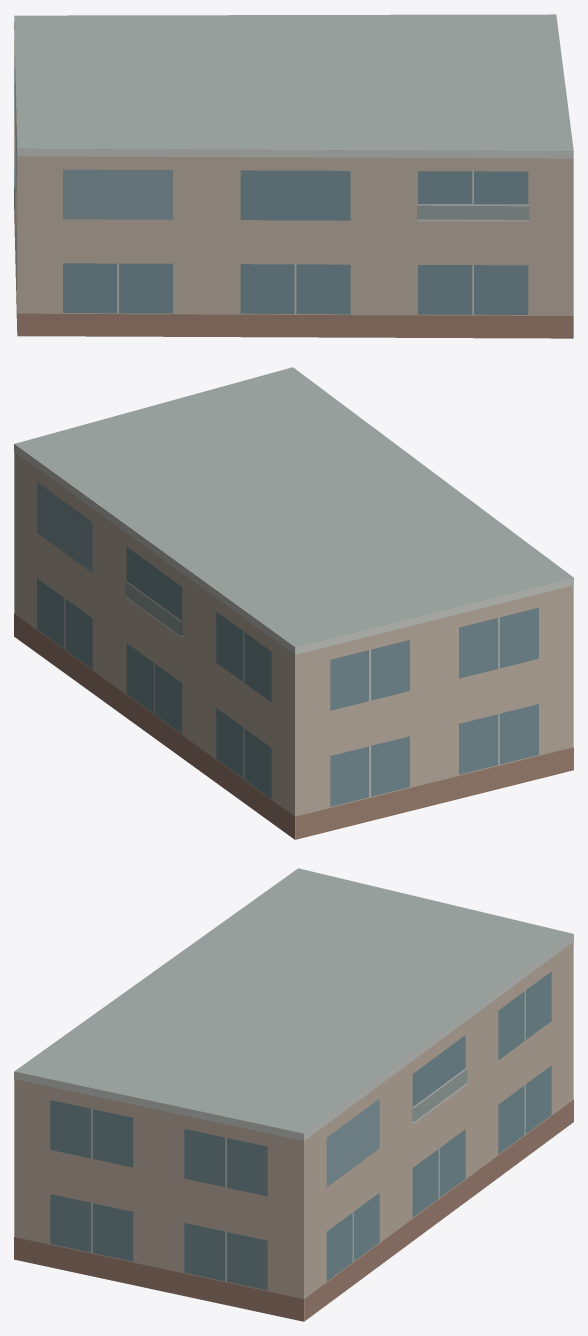
The model's file is survey-upis-32847830.glb.
3 renders of one model, top to bottom at view 1: azimuth 30°, elevation 25°; view 2: azimuth 150°, elevation 25°; view 3: azimuth 270°, elevation 25°, orthographic. The views are drawn at different scales.
Parts seen in each view (by area): view 1: survey-upis-32847830.tmp; view 2: survey-upis-32847830.tmp; view 3: survey-upis-32847830.tmp.
Boxes of the visible parts, x1,y1,x2,y2 form: survey-upis-32847830.tmp: (14, 14, 573, 338); survey-upis-32847830.tmp: (14, 367, 573, 839); survey-upis-32847830.tmp: (14, 868, 573, 1321).
Bounding box in the file's own units: 18.47 × 6.1 × 16.46.
